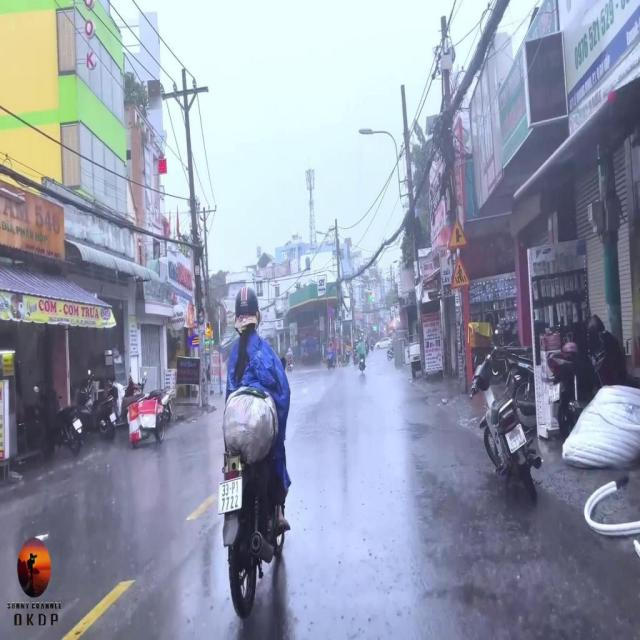chu_y_nguoi_di_bo_cat_ngang: (450, 254, 471, 290)
giao_nhau_voi_duong_khong_uu_tien: (448, 216, 468, 250)
